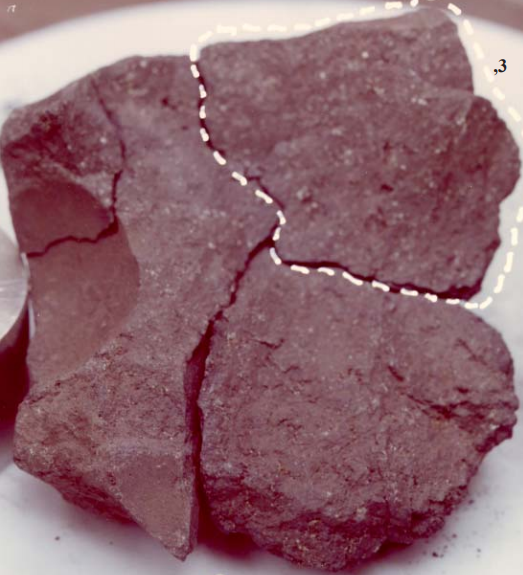Basalt: (0, 1, 522, 572)
